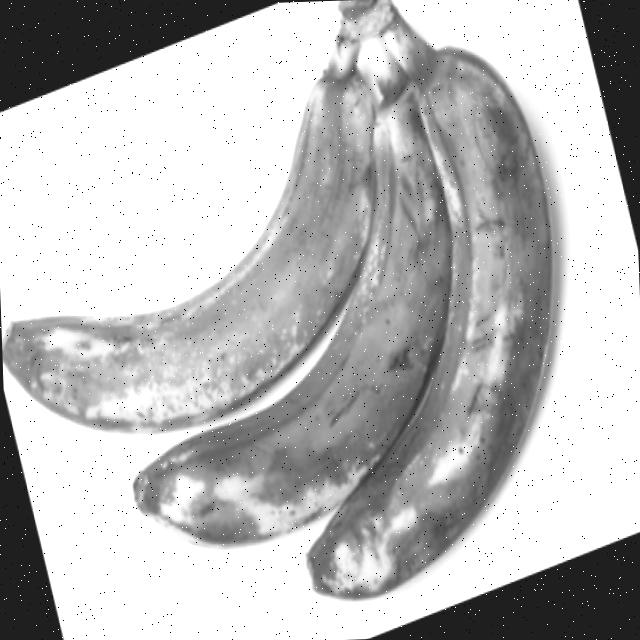Rotten: (284, 39, 565, 607)
